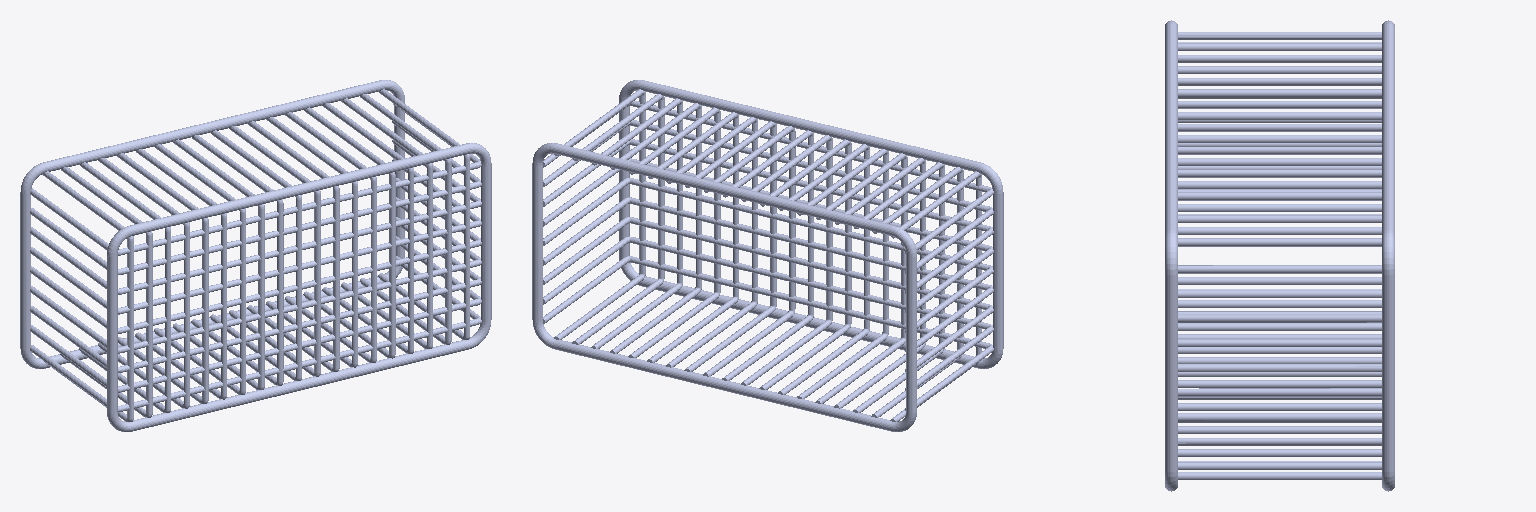
robot.urdf — cage:
<?xml version="1.0"?>
<robot name="cage">
  <link name="base_link">
    <!-- sw2robot density="1000" inertia="solidworks" -->
    <visual>
      <origin xyz="0 0 0" rpy="0 0 0" />
      <geometry>
        <mesh filename="package://cage_description/meshes/cage.dae" />
      </geometry>
    </visual>
    <collision>
      <origin xyz="0 0 0" rpy="0 0 0" />
      <geometry>
        <mesh filename="package://cage_description/meshes/cage.stl" />
      </geometry>
    </collision>
    <inertial>
      <origin xyz="4.115011069e-05 0.02761907175 -2.806513352e-05" rpy="0 0 0" />
      <mass value="0.0792316" />
      <inertia ixx="0.000196658" ixy="1.75056e-07" ixz="9.15033e-11" iyy="0.000476585" iyz="-1.16477e-07" izz="0.000440273" />
    </inertial>
  </link>
</robot>

--- Facts derived from the render (not from the file) ---
The picture shows the robot from 3 angles, left to right: view 1: azimuth 30°, elevation 25°; view 2: azimuth 150°, elevation 25°; view 3: azimuth 270°, elevation 25°; orthographic projection.
Model cage with 1 links and 0 joints (none), rooted at base_link, posed every joint at zero.
Visible links, largest first — view 1: base_link; view 2: base_link; view 3: base_link.
Boxes of the visible links, left/top/right/bottom form: base_link: left=20, top=80, right=491, bottom=431; base_link: left=532, top=80, right=1003, bottom=431; base_link: left=1165, top=20, right=1394, bottom=491.
Size in the robot's own frame: 0.205 by 0.085 by 0.105 metres.
1 mesh visuals loaded from 1 distinct referenced files (1 Collada DAE).
